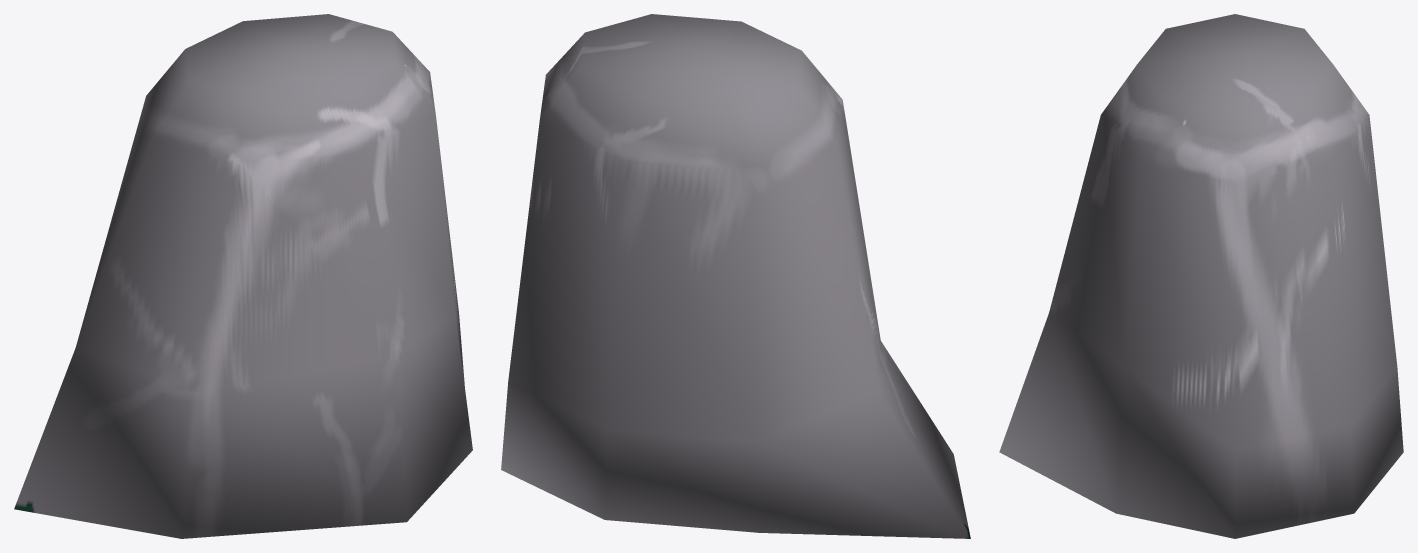
The model's file is stone1.fbx.
The picture shows the model from 3 angles, left to right: view 1: azimuth 30°, elevation 25°; view 2: azimuth 150°, elevation 25°; view 3: azimuth 270°, elevation 25°; orthographic projection. The views are drawn at different scales.
Visible parts, largest first — view 1: stone; view 2: stone; view 3: stone.
Part boxes in pixels (x1=…): stone: x1=14, y1=14, x2=472, y2=538; stone: x1=501, y1=14, x2=970, y2=538; stone: x1=999, y1=14, x2=1403, y2=538.
Size of the model in its own units: 372 by 317 by 287.
